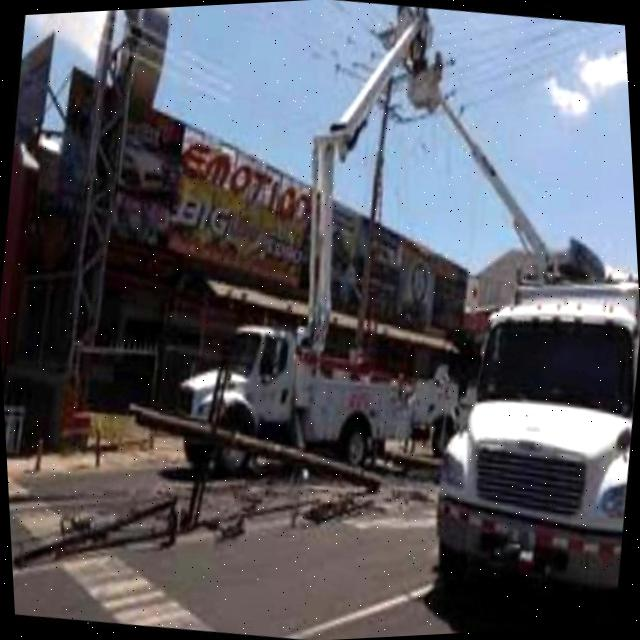Broken Pole: (15, 293, 381, 572)
